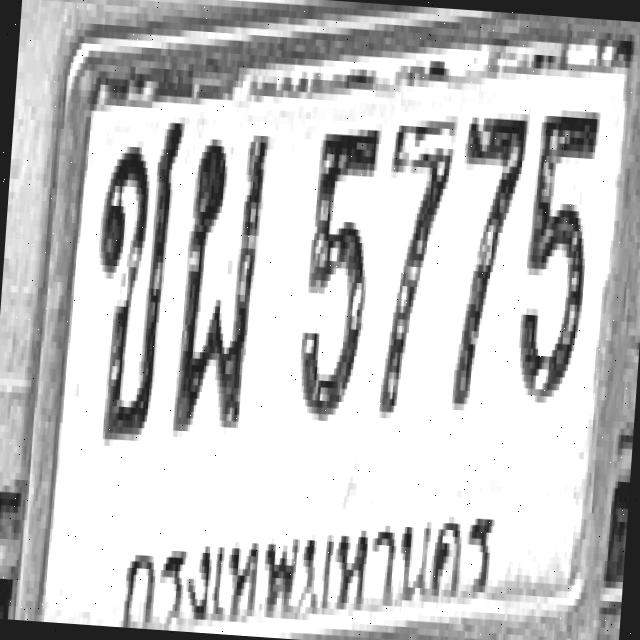19ChorChang: (84, 108, 184, 446)
37PhorPhueng: (170, 124, 270, 435)
5: (514, 101, 600, 405), (295, 119, 381, 423)
7: (447, 110, 528, 413), (374, 115, 454, 418)
Bangkok: (105, 472, 511, 640)
